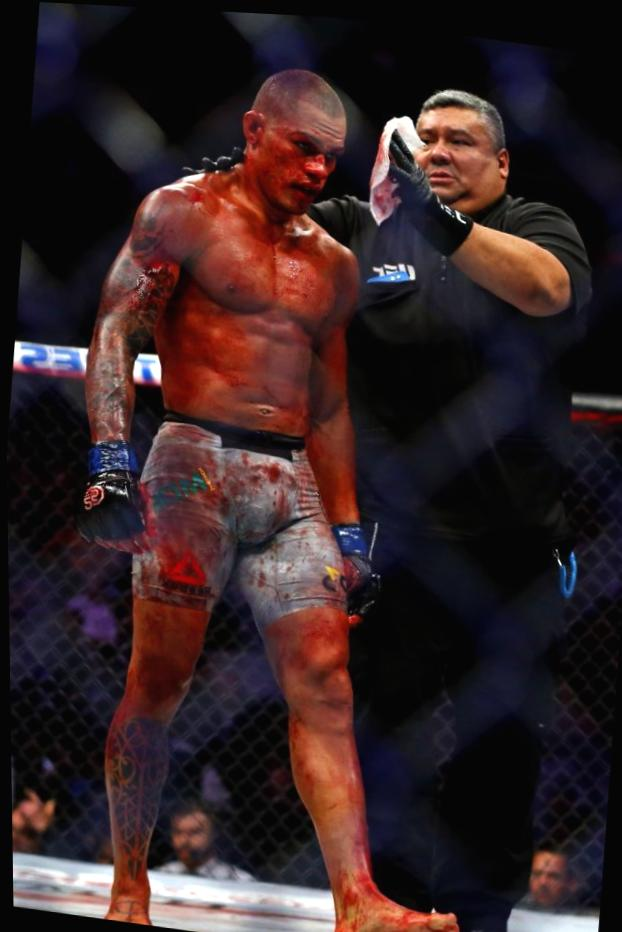Fire: (84, 107, 455, 932), (369, 127, 400, 220)
